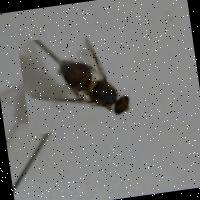Oriental-fruit-fly: (16, 26, 138, 135)
